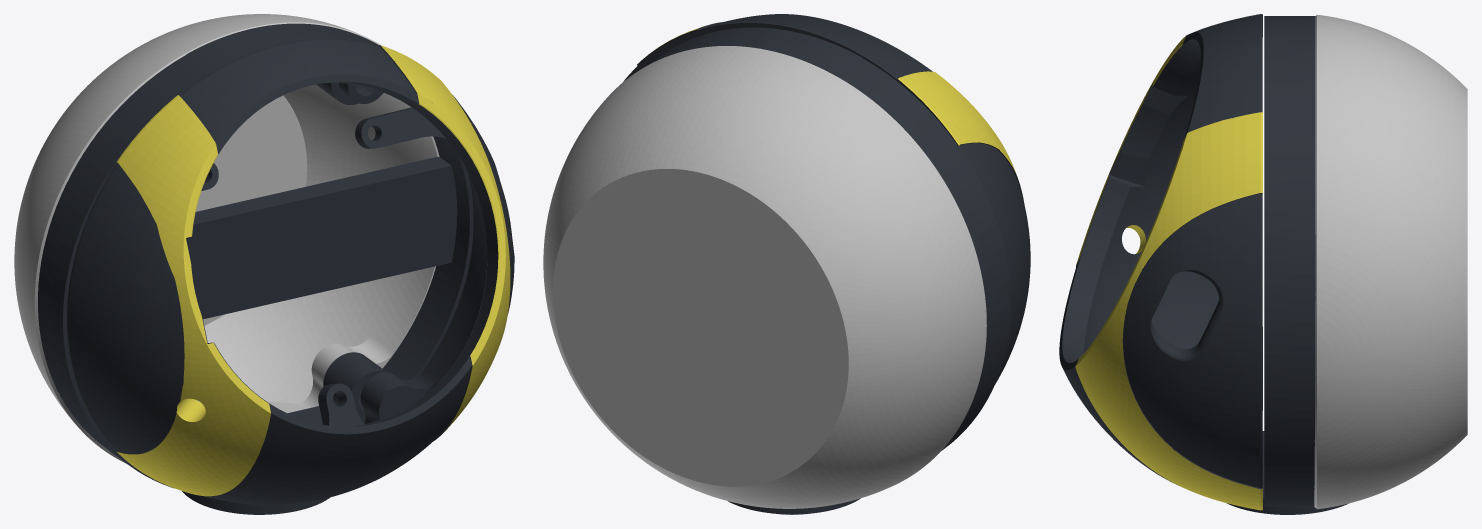
The model's file is poketama-ultra.glb.
3 views of the same model, side by side, from view 1: azimuth 30°, elevation 25°; view 2: azimuth 150°, elevation 25°; view 3: azimuth 270°, elevation 25° (orthographic).
Bounding box in the file's own units: 1.94 × 2 × 1.58.
